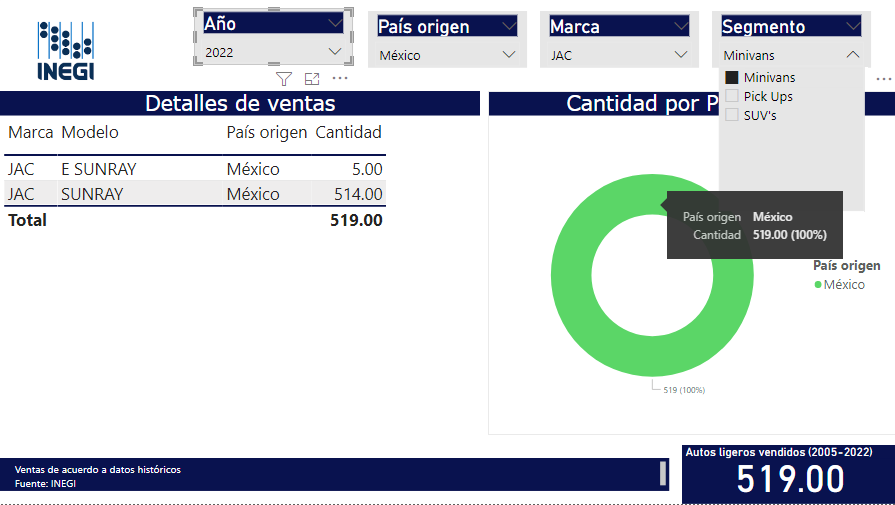

The page's visual inventory and layout, read from the dashboard file:
{"tool":"powerbi","page":{"name":"Implemetaciones I","canvas":[1280,720],"ordinal":1},"visuals":[{"type":"card","title":"Autos ligeros vendidos (2005-2022)","fields":{"Values":["Sum(Ventas_VL$.Cantidad)"]},"box":[972.6,636.6,307.4,84],"z":0},{"type":"slicer","fields":{"Values":["Ventas_VL$.Año"]},"box":[277.2,13.4,226.8,80.6],"z":1000},{"type":"slicer","fields":{"Values":["Ventas_VL$.País origen"]},"box":[525.8,16.8,226.8,80.6],"z":2000},{"type":"slicer","fields":{"Values":["Ventas_VL$.Marca"]},"box":[771,16.8,226.8,80.6],"z":3000},{"type":"image","box":[26.3,17.6,135.2,114.1],"z":4000},{"type":"slicer","fields":{"Values":["Ventas_VL$.Segmento"]},"box":[1016.3,16.8,226.8,80.6],"z":5000},{"type":"tableEx","title":"Detalles de ventas","fields":{"Values":["Ventas_VL$.Marca","Ventas_VL$.Modelo","Ventas_VL$.País origen","Sum(Ventas_VL$.Cantidad)"]},"box":[0,131.3,684.9,490.9],"z":6000},{"type":"donutChart","fields":{"Category":["Ventas_VL$.País origen"],"Y":["Sum(Ventas_VL$.Cantidad)"]},"box":[696.4,131.3,583.6,490.9],"z":7000},{"type":"textbox","box":[0,654.9,955.2,47.4],"z":8000}]}

Visuals, with their boxes in screenshot pixels (x1, y1, x2, y2), scaled from the page's 1280x720 canvas onto the 895x505 screenshot:
"Autos ligeros vendidos (2005-2022)" card: [left=680, top=447, right=894, bottom=504]
slicer - Ventas_VL$.Año: [left=194, top=9, right=352, bottom=66]
slicer - Ventas_VL$.País origen: [left=368, top=12, right=526, bottom=68]
slicer - Ventas_VL$.Marca: [left=539, top=12, right=698, bottom=68]
image: [left=18, top=12, right=113, bottom=92]
slicer - Ventas_VL$.Segmento: [left=711, top=12, right=869, bottom=68]
"Detalles de ventas" tableEx: [left=0, top=92, right=479, bottom=436]
donutChart - Ventas_VL$.País origen x Sum(Ventas_VL$.Cantidad): [left=487, top=92, right=894, bottom=436]
textbox: [left=0, top=459, right=668, bottom=493]
